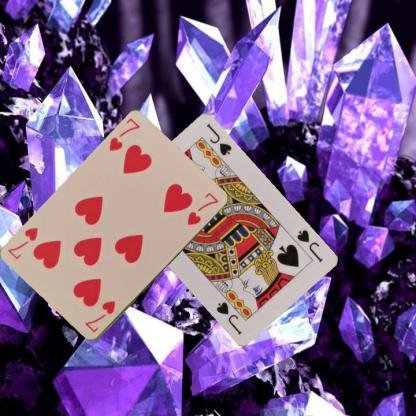7h: (106, 116, 142, 153), (82, 298, 117, 335)
Js: (294, 227, 324, 264)
